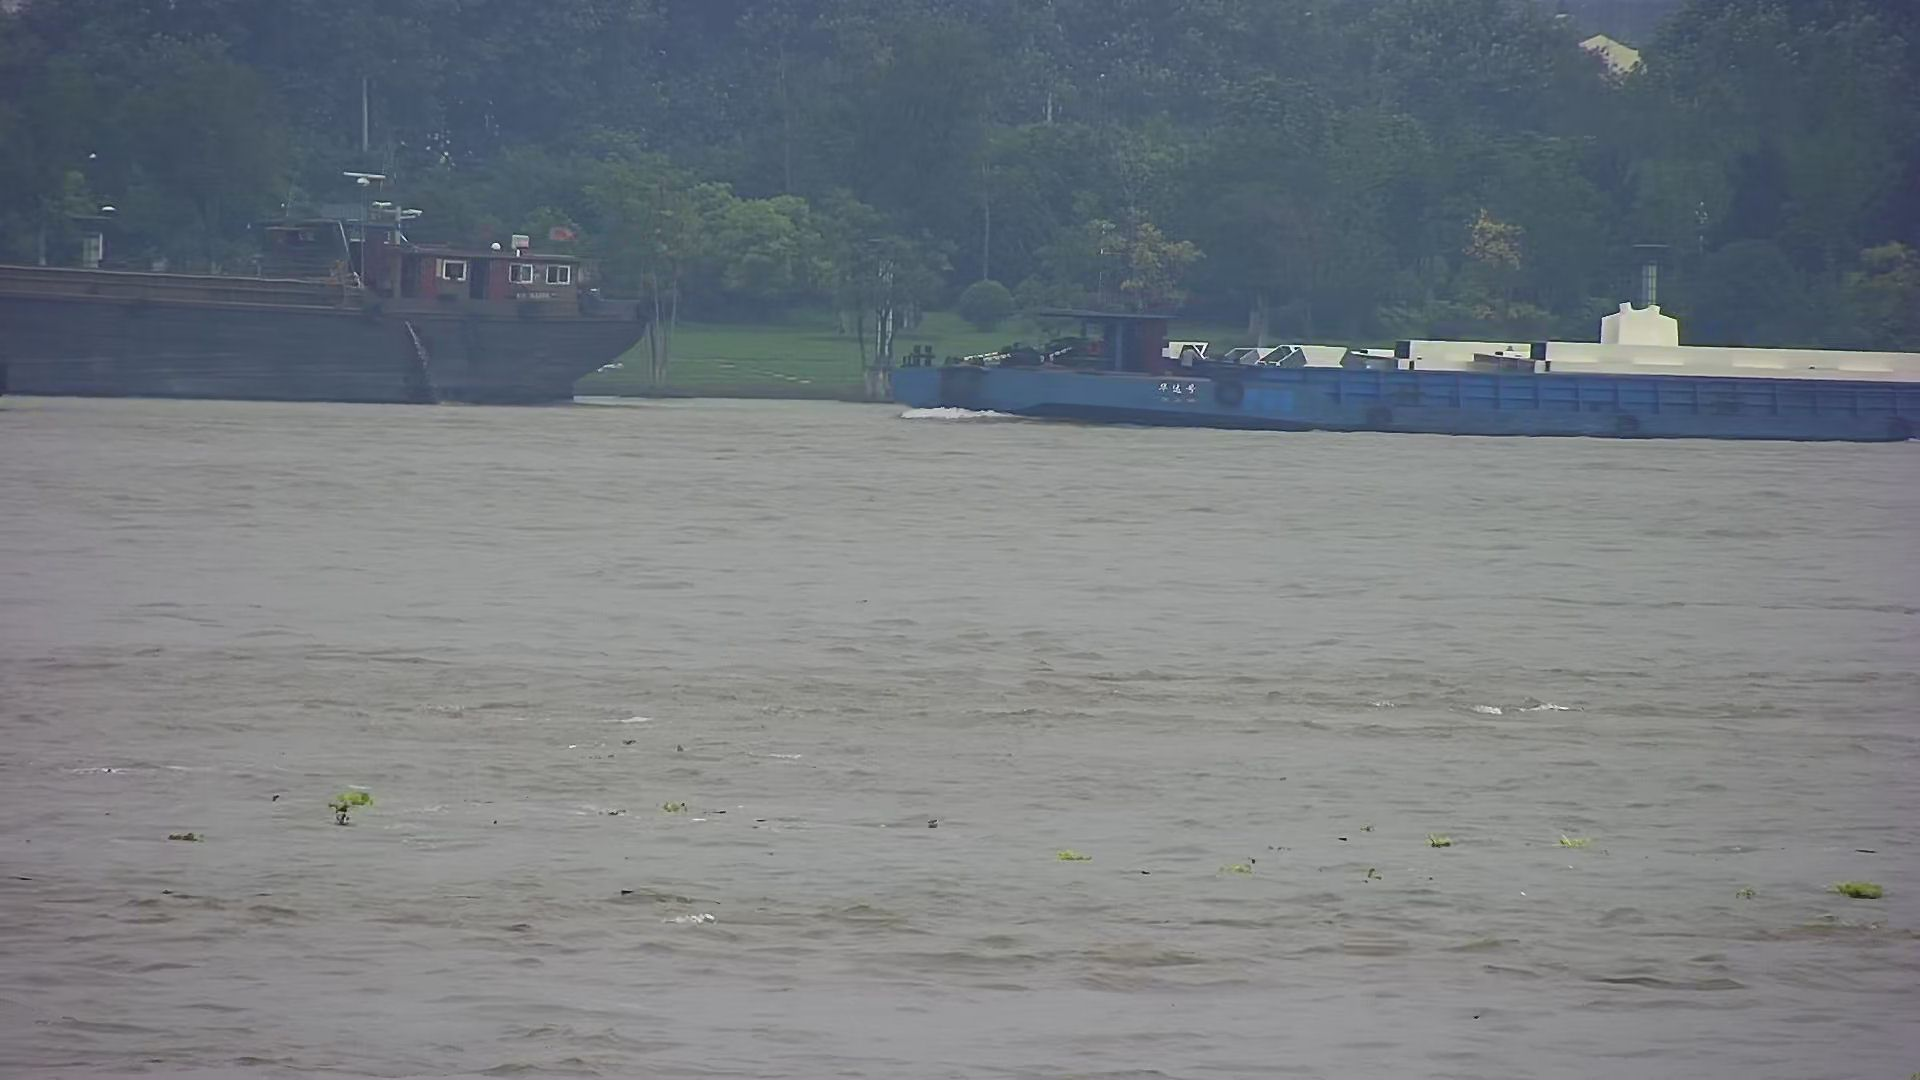ship: (885, 295, 1916, 450), (4, 179, 654, 411)
